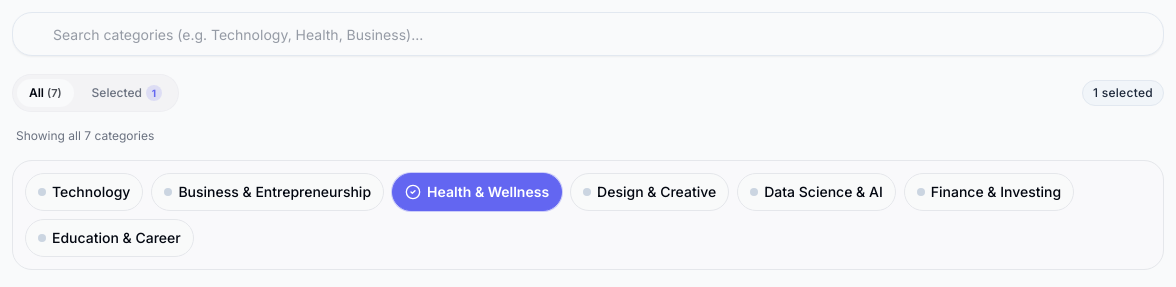
Test: CategorySelector Component Integration › filters down to Selected tab to review currently selected categories
This screenshot has width=1176, height=287.
Click the button "Selected 1".
click(127, 93)  # box [80,79,174,107]
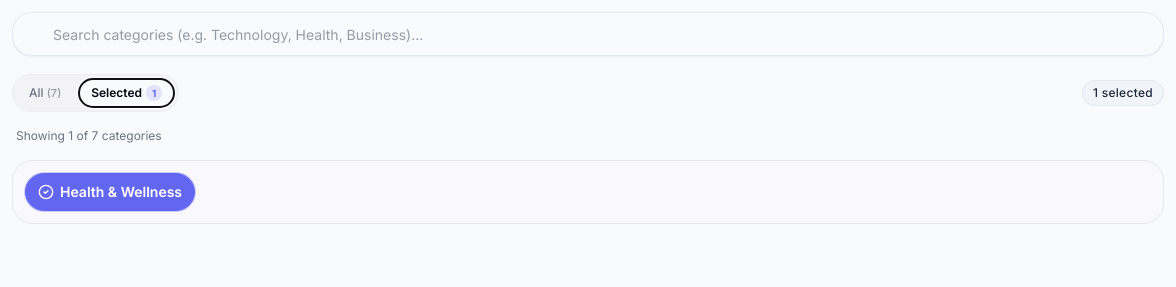
Expected: the text "Health & Wellness" is shown, [60,182,182,202]
Result: the button "Design & Creative" is gone
